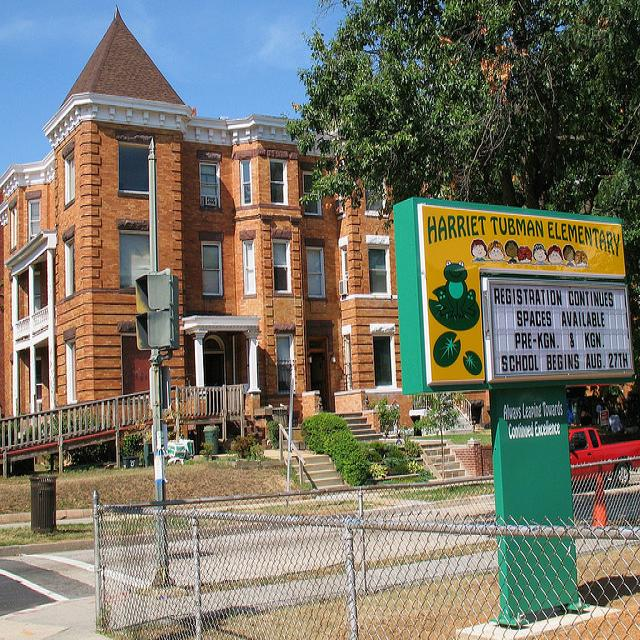Vehicle: (568, 426, 640, 486)
